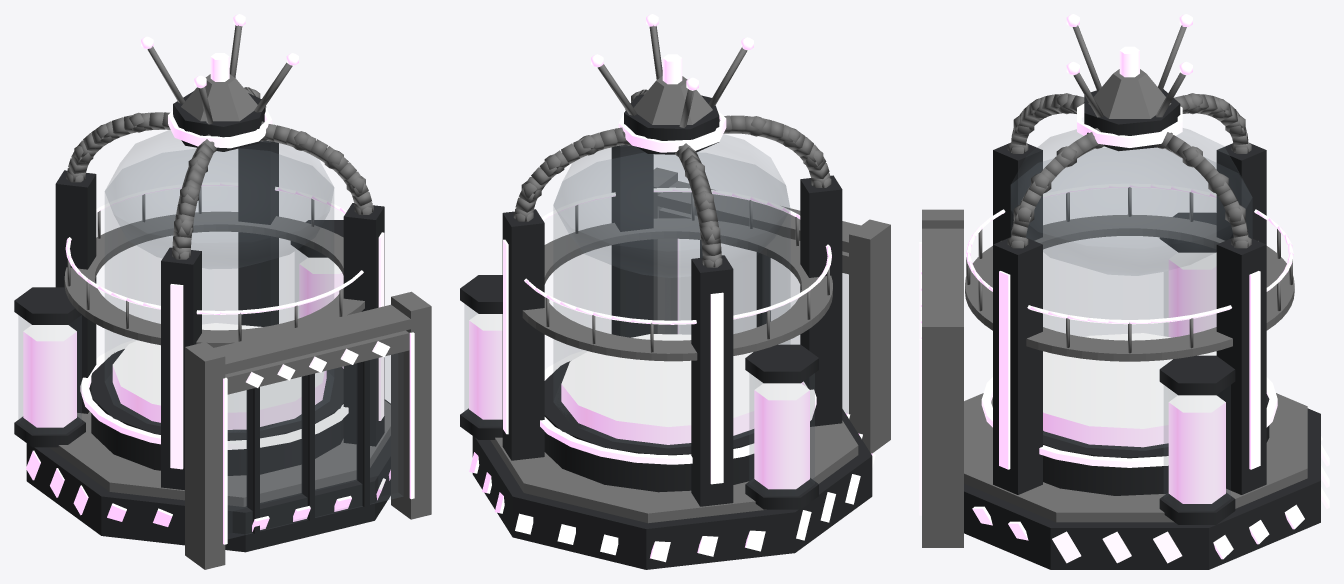
Rendered from MonsterVat_NULL.glb.
3 views of the same model, side by side, from view 1: azimuth 30°, elevation 25°; view 2: azimuth 150°, elevation 25°; view 3: azimuth 270°, elevation 25° (orthographic). The views are drawn at different scales.
Visible parts, largest first — view 1: MonsterVat_NULL, MonsterVat_NULL_Gate; view 2: MonsterVat_NULL, MonsterVat_NULL_Gate; view 3: MonsterVat_NULL.
Boxes of the visible parts, x1,y1,x2,y2 form: MonsterVat_NULL: (14, 14, 431, 569); MonsterVat_NULL_Gate: (225, 330, 409, 538); MonsterVat_NULL: (460, 14, 890, 569); MonsterVat_NULL_Gate: (659, 207, 848, 413); MonsterVat_NULL: (919, 14, 1329, 569).
Size of the model in its own units: 4.8 by 5.92 by 4.88.
